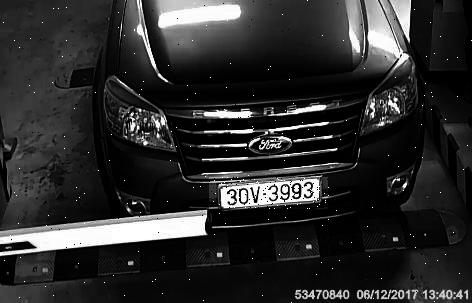License-plate: (211, 178, 331, 210)
